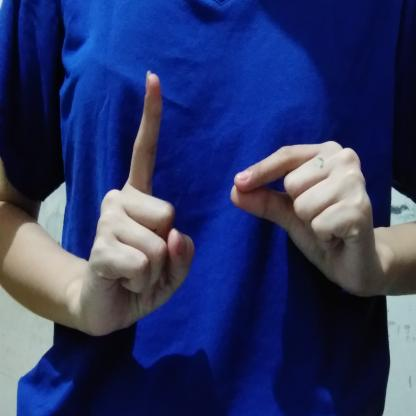son: (78, 63, 377, 341)
